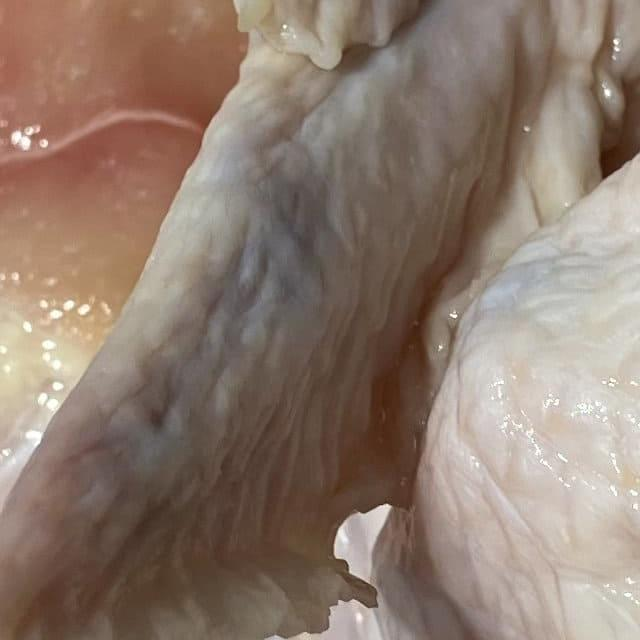chicken: (303, 0, 640, 640)
